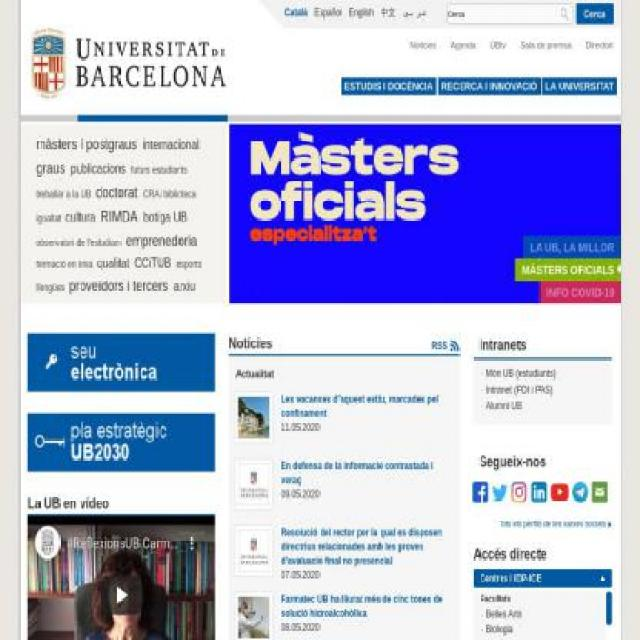button: (229, 124, 620, 304), (28, 412, 215, 472), (28, 333, 215, 392), (479, 570, 613, 584), (437, 77, 540, 95), (341, 77, 436, 95), (542, 77, 618, 95), (498, 518, 613, 528), (472, 482, 490, 503), (510, 482, 528, 503), (550, 482, 568, 503), (590, 482, 608, 503), (530, 482, 547, 503), (492, 482, 508, 503), (572, 482, 588, 503)
field: (446, 3, 574, 25), (576, 3, 615, 25)
